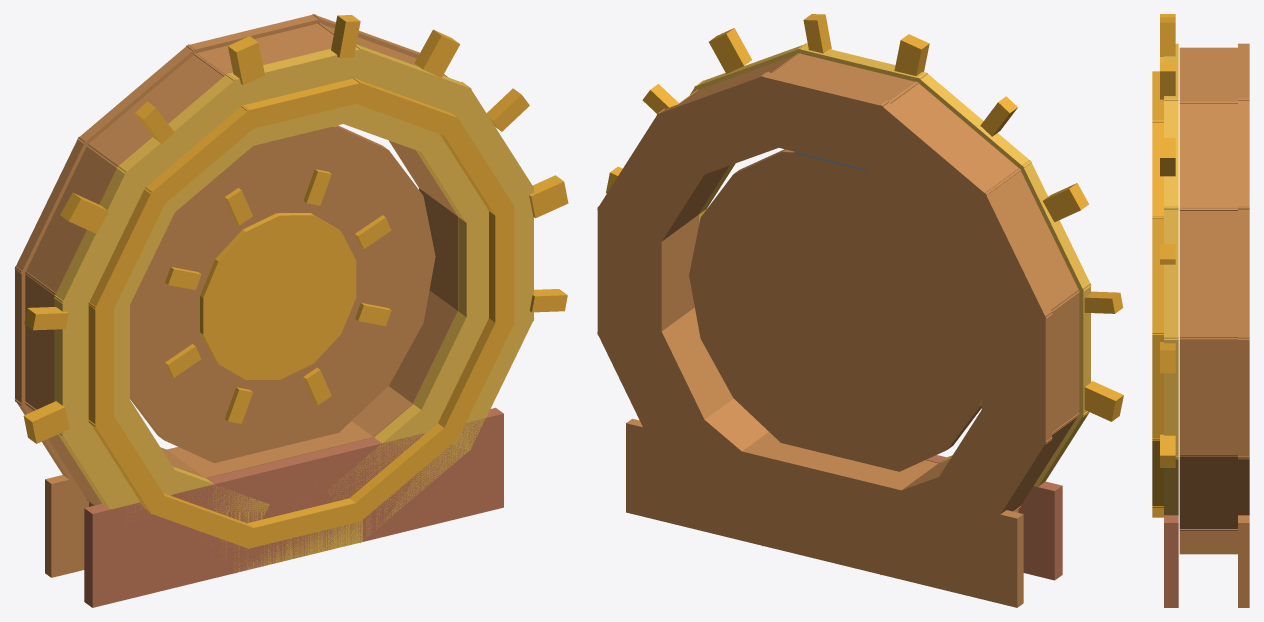
File: CatCafe_CatFlap_SunDisc.glb
3 views of the same model, side by side, from view 1: azimuth 30°, elevation 25°; view 2: azimuth 150°, elevation 25°; view 3: azimuth 270°, elevation 25° (orthographic). The views are drawn at different scales.
Parts seen in each view (by area): view 1: CatCafe_CatFlap_SunDisc, CatCafe_CatFlap_SunDisc_Flap; view 2: CatCafe_CatFlap_SunDisc, CatCafe_CatFlap_SunDisc_Flap; view 3: CatCafe_CatFlap_SunDisc.
Part boxes in pixels (left/top/right/bottom): CatCafe_CatFlap_SunDisc: left=14, top=14, right=568, bottom=607; CatCafe_CatFlap_SunDisc_Flap: left=130, top=125, right=435, bottom=463; CatCafe_CatFlap_SunDisc: left=597, top=14, right=1123, bottom=607; CatCafe_CatFlap_SunDisc_Flap: left=689, top=149, right=981, bottom=471; CatCafe_CatFlap_SunDisc: left=1152, top=14, right=1249, bottom=607.
Bounding box in the file's own units: 2.87 × 2.7 × 0.5.
Materials: 1 (1 with a texture image).
